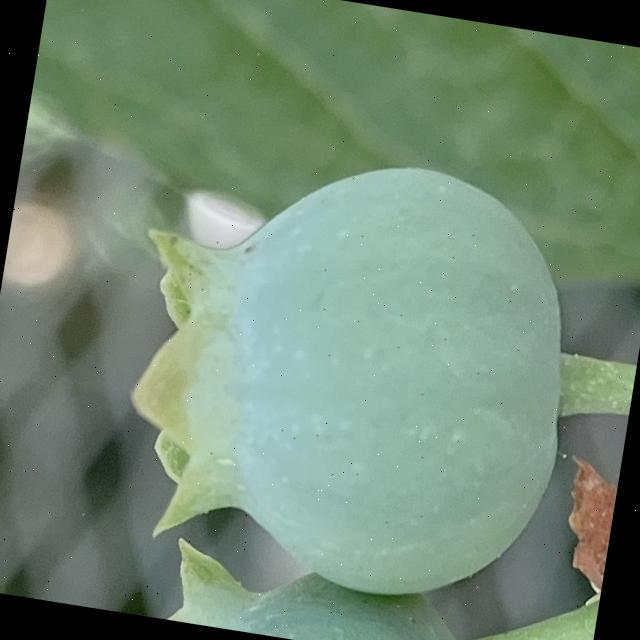Blueberries: (99, 127, 599, 622), (113, 534, 489, 640)
